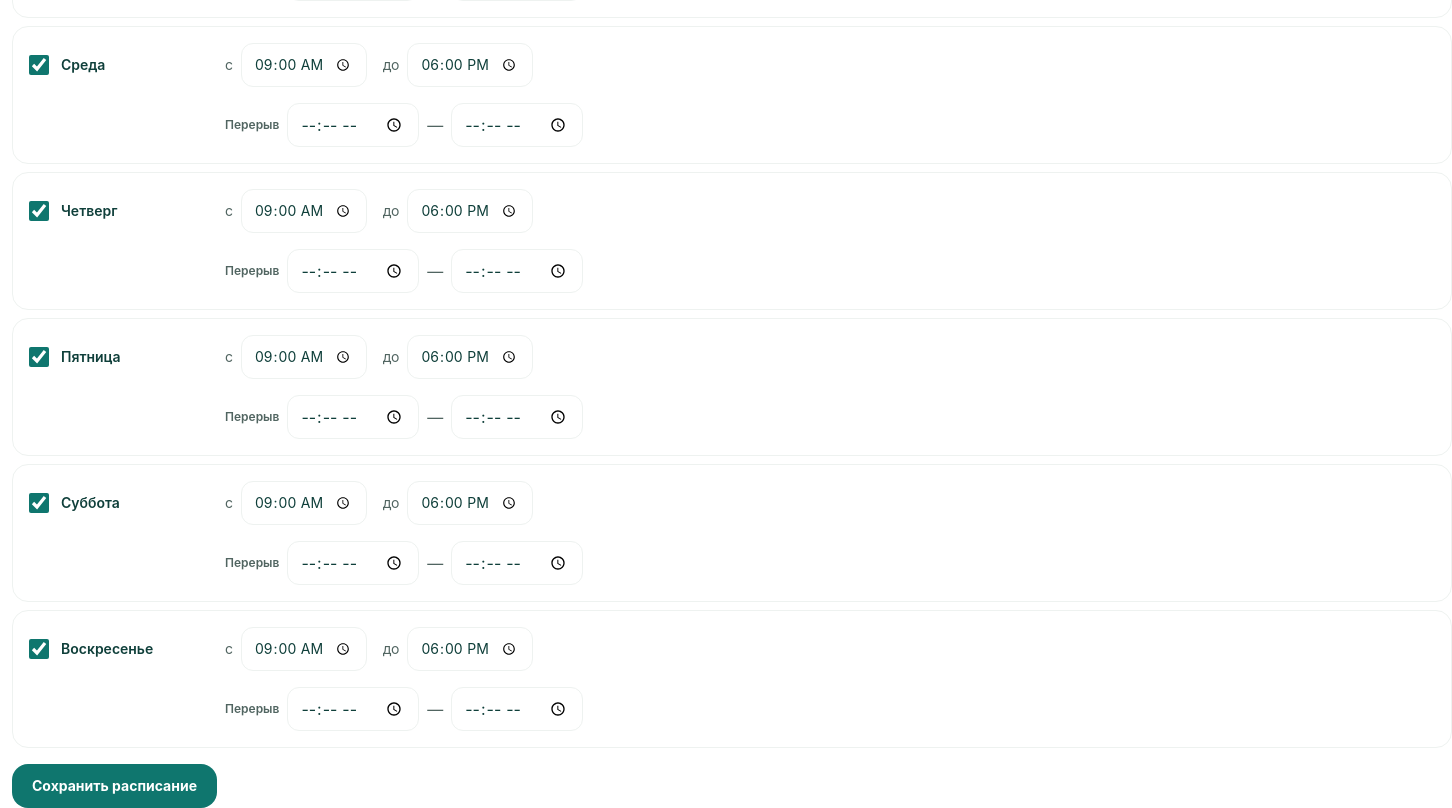
Test: WeekSchedule › не объявляет успех, когда API отклонил сохранение
(page scrolled)
Step 1. Click the button "Сохранить расписание" → (114, 786), box [12, 764, 217, 807]
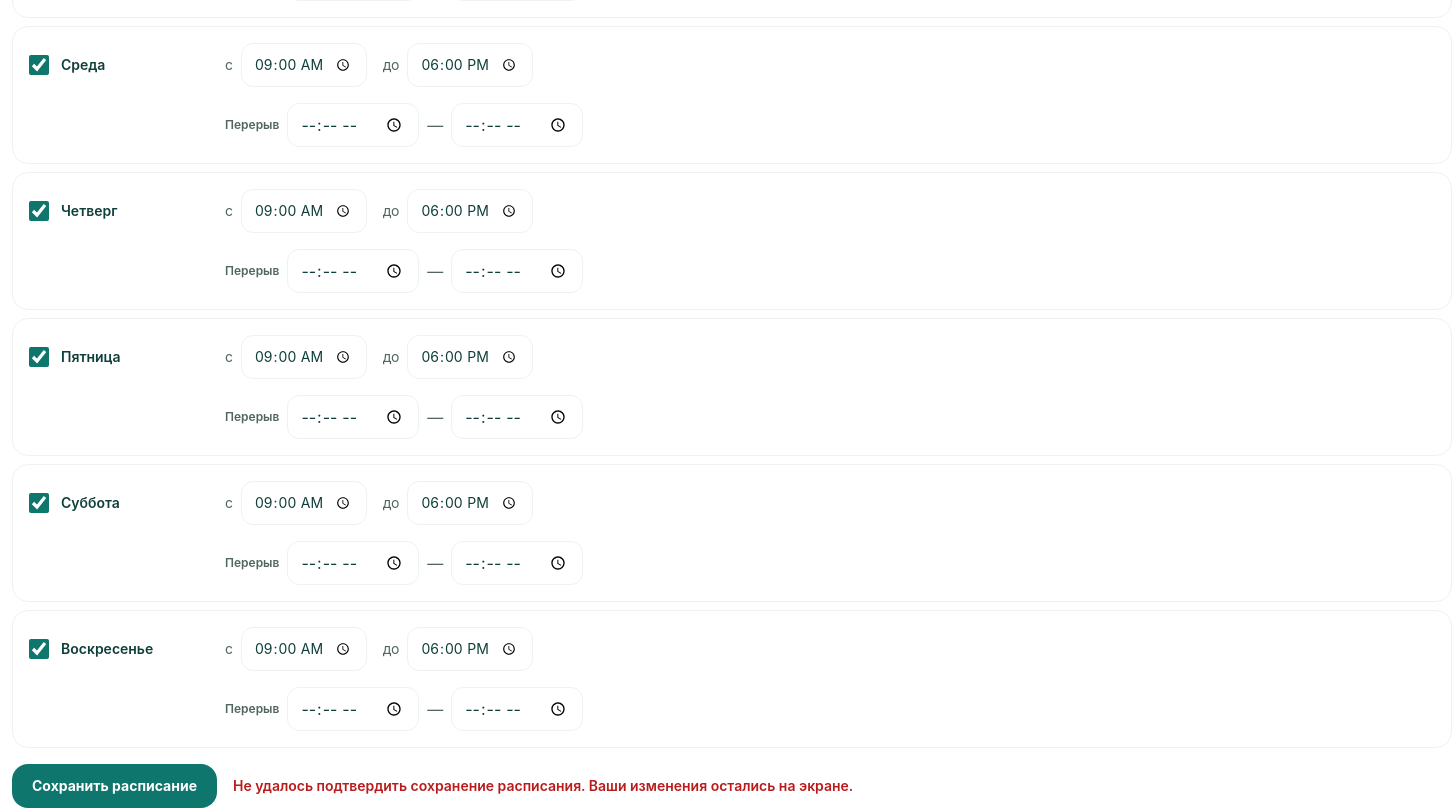
Check: the message shows "Не удалось", box [233, 777, 853, 794]
